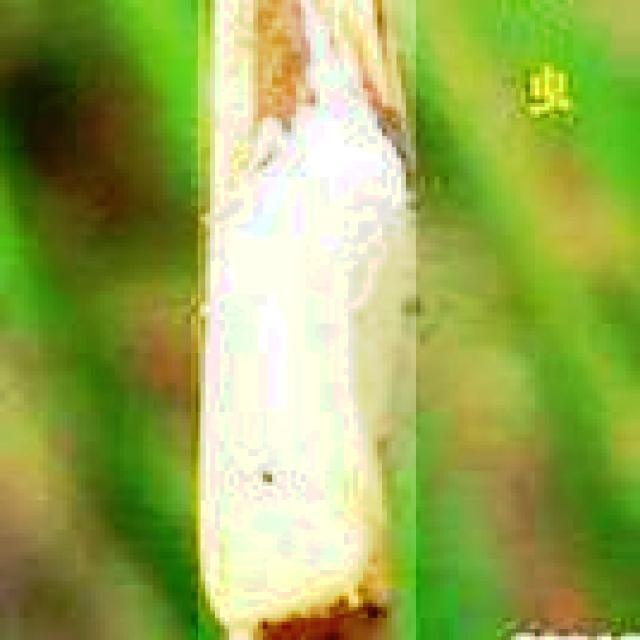stem-borer: (198, 0, 416, 640)
